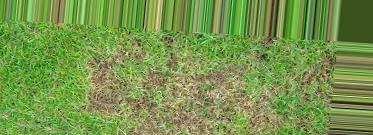patch: (102, 56, 323, 133)
